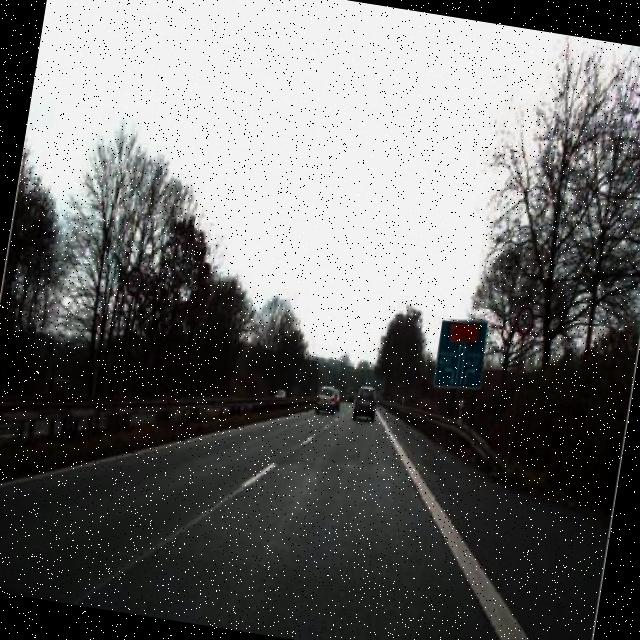Ograniczenie predkosci do 50: (512, 302, 538, 339), (124, 266, 148, 300)
